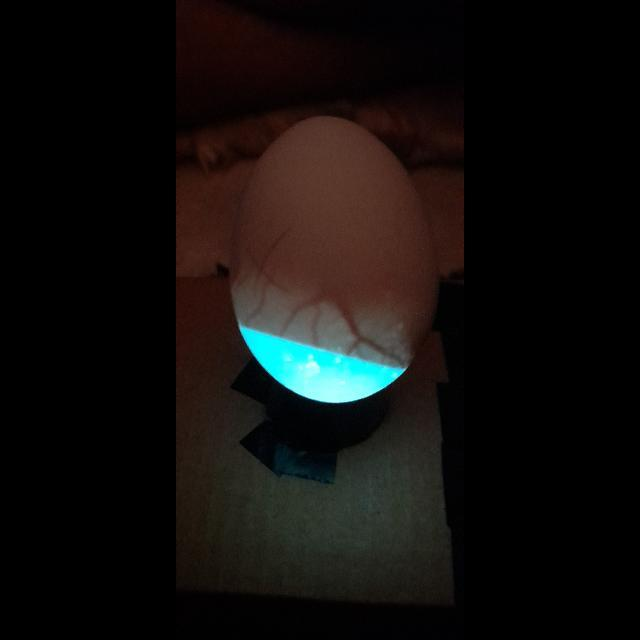Fertile: (228, 110, 437, 406)
